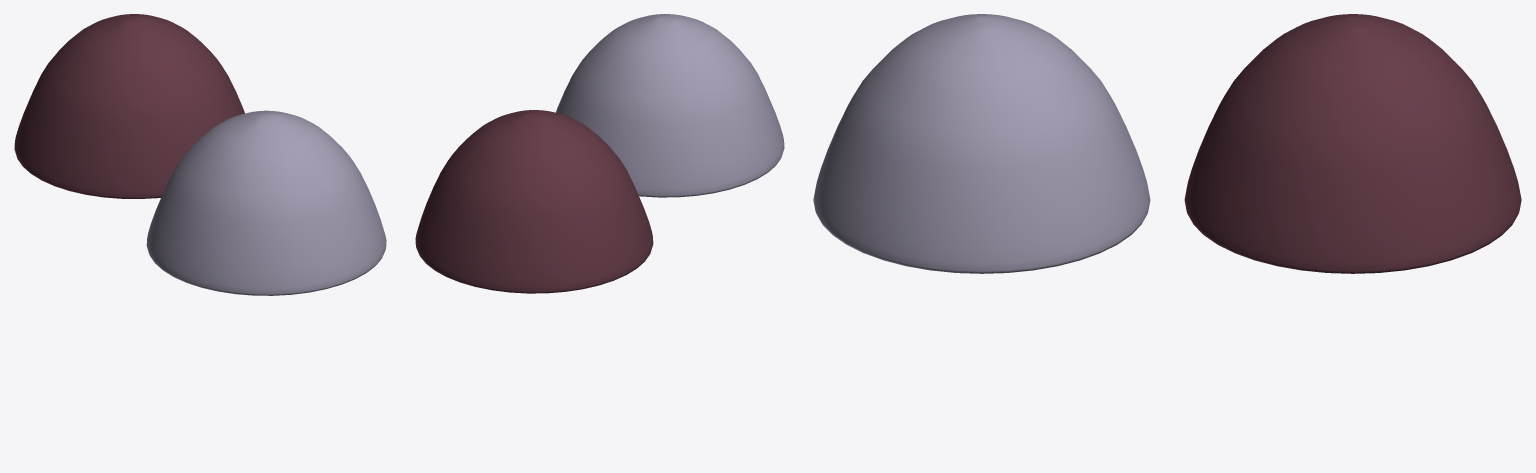
Rendered from SM_SideShrooms.fbx.
3 renders of one model, left to right at view 1: azimuth 30°, elevation 25°; view 2: azimuth 150°, elevation 25°; view 3: azimuth 270°, elevation 25°, orthographic. The views are drawn at different scales.
Parts seen in each view (by area): view 1: SM_Sideshroom_01, SM_Sideshroom_02; view 2: SM_Sideshroom_02, SM_Sideshroom_01; view 3: SM_Sideshroom_01, SM_Sideshroom_02.
Part boxes in pixels (x1,y1,x2,y2): SM_Sideshroom_01: (146, 110, 386, 295); SM_Sideshroom_02: (14, 14, 244, 198); SM_Sideshroom_02: (415, 110, 653, 293); SM_Sideshroom_01: (556, 14, 784, 197); SM_Sideshroom_01: (813, 14, 1150, 273); SM_Sideshroom_02: (1184, 14, 1521, 273).
Bounding box in the file's own units: 4 × 5.93 × 8.41.
